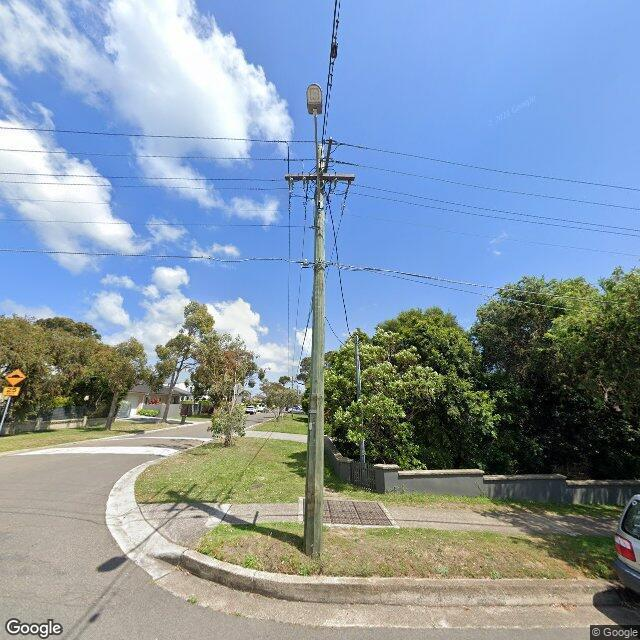crossarm: (284, 173, 354, 182), (323, 138, 334, 172)
steel-pole: (356, 336, 366, 462)
streetlight: (306, 82, 322, 208)
timber-pole: (302, 140, 325, 557)
